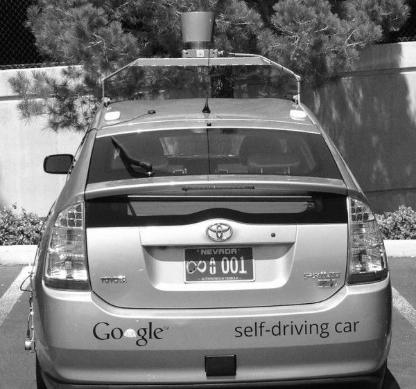license plate: (180, 240, 260, 288)
